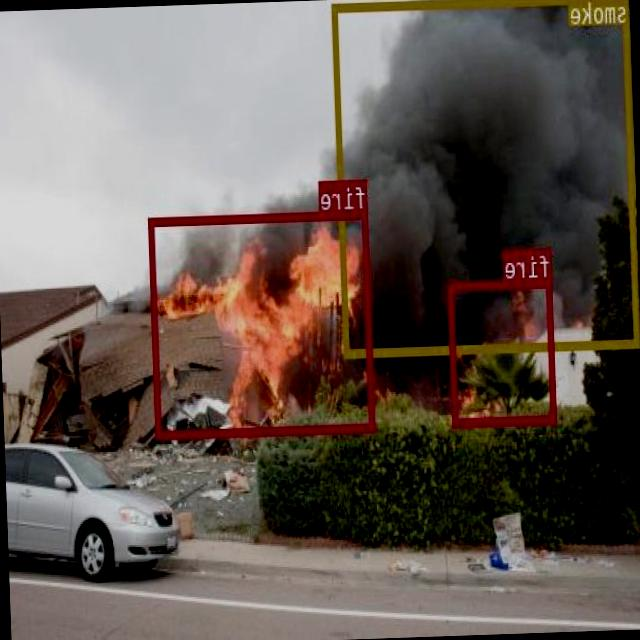fire: (148, 208, 376, 436), (448, 276, 557, 424)
smoke: (333, 0, 640, 354)
